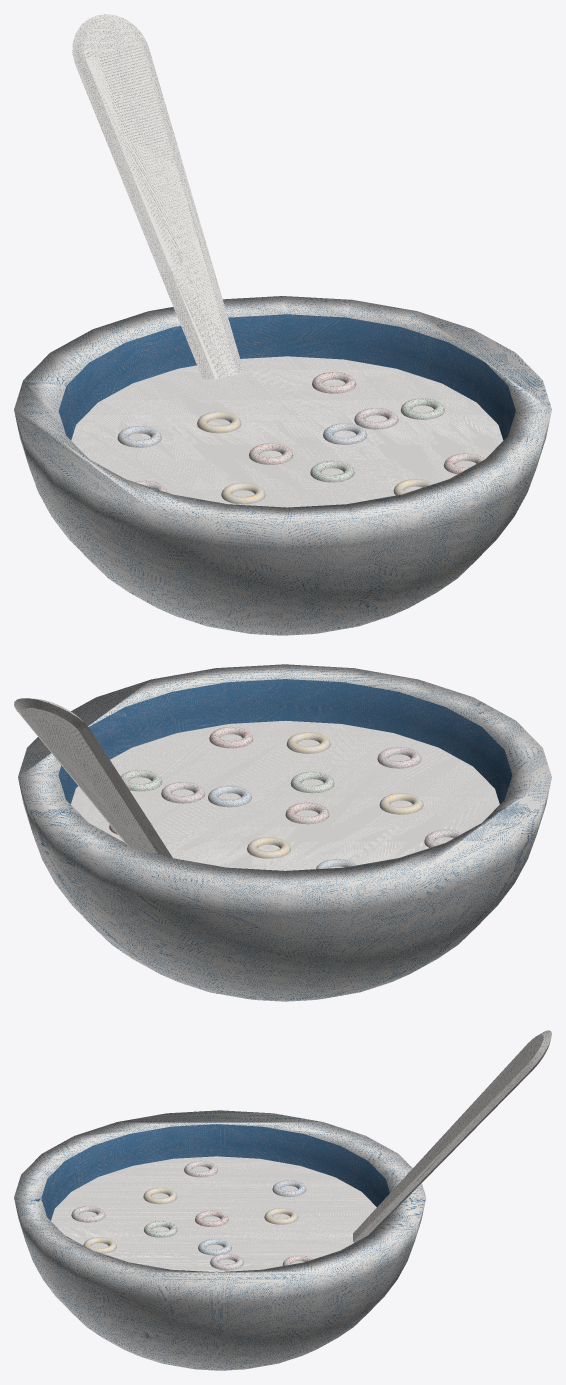
Rendered from bowl.dae.
3 renders of one model, top to bottom at view 1: azimuth 30°, elevation 25°; view 2: azimuth 150°, elevation 25°; view 3: azimuth 270°, elevation 25°, orthographic. The views are drawn at different scales.
Parts seen in each view (by area): view 1: SketchUp (×4); view 2: SketchUp (×14); view 3: SketchUp (×7).
Boxes of the visible parts, box(x1,y1,x2,y2) form: SketchUp (×4): box(14, 14, 551, 635); SketchUp (×14): box(14, 664, 551, 1001); SketchUp (×7): box(14, 1030, 551, 1370).
Bounding box in the file's own units: 10.6 × 13.84 × 9.11.
